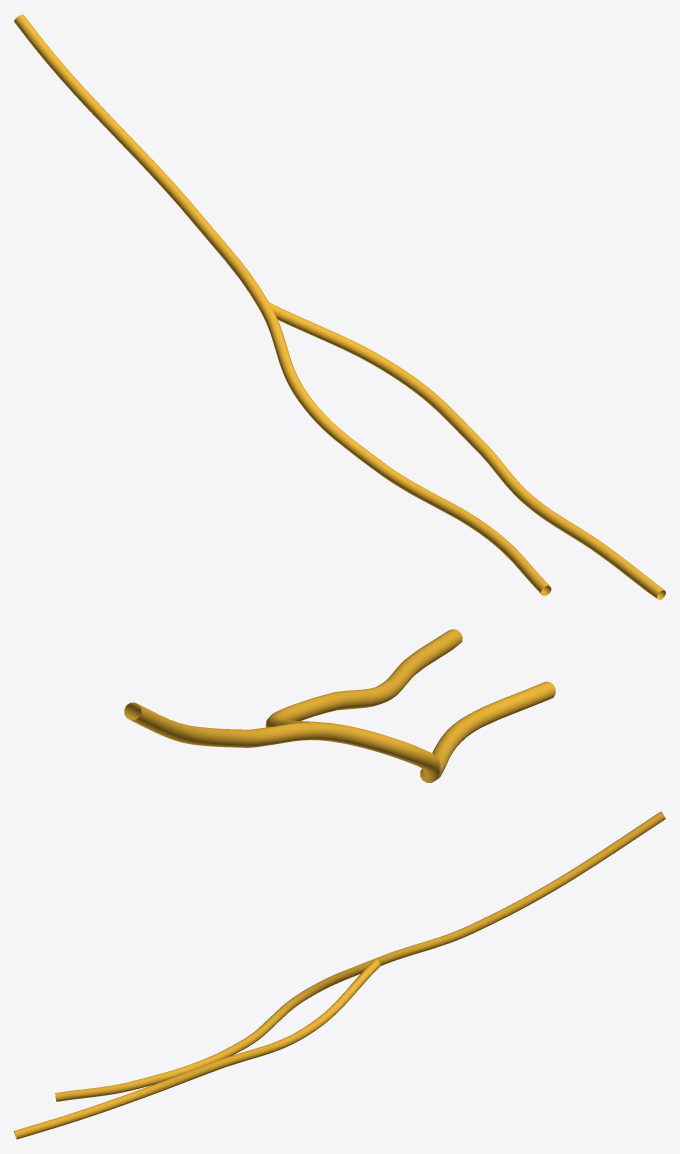
Rendered from nervoso-dorsal-digital-branches-of-deep-fibular-nerve-l.glb.
3 renders of one model, top to bottom at view 1: azimuth 30°, elevation 25°; view 2: azimuth 150°, elevation 25°; view 3: azimuth 270°, elevation 25°, orthographic. The views are drawn at different scales.
Visible parts, largest first — view 1: Dorsal digital branches of deep fibular nerve.l; view 2: Dorsal digital branches of deep fibular nerve.l; view 3: Dorsal digital branches of deep fibular nerve.l.
Part boxes in pixels (x1=…): Dorsal digital branches of deep fibular nerve.l: x1=14, y1=14, x2=665, y2=600; Dorsal digital branches of deep fibular nerve.l: x1=124, y1=629, x2=555, y2=782; Dorsal digital branches of deep fibular nerve.l: x1=14, y1=811, x2=665, y2=1139.
Size of the model in its own units: 0.0215 by 0.0298 by 0.071.
